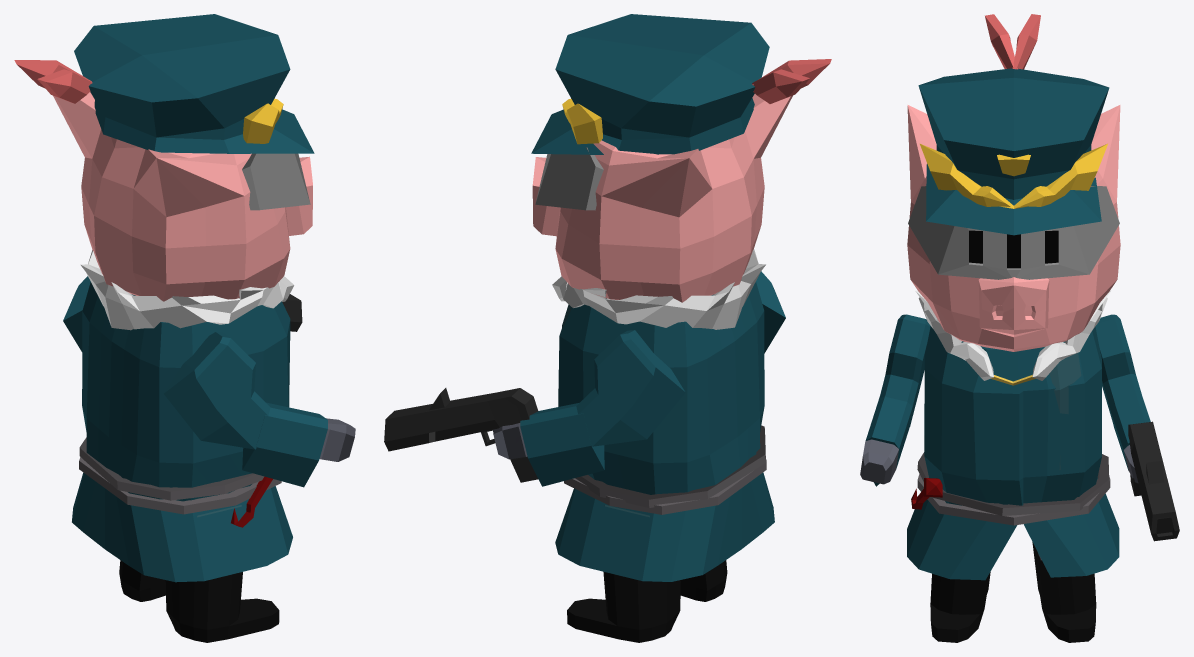
The model's file is commandant.glb.
The picture shows the model from 3 angles, left to right: view 1: azimuth 30°, elevation 25°; view 2: azimuth 150°, elevation 25°; view 3: azimuth 270°, elevation 25°; orthographic projection. The views are drawn at different scales.
Visible parts, largest first — view 1: commandant; view 2: commandant; view 3: commandant.
Boxes of the visible parts, x1=… form: commandant: x1=14, y1=14, x2=355, y2=642; commandant: x1=384, y1=14, x2=831, y2=642; commandant: x1=860, y1=14, x2=1179, y2=642.
Bounding box in the file's own units: 3.54 × 5.55 × 3.03.
Materials: 13 (6 with a texture image).
